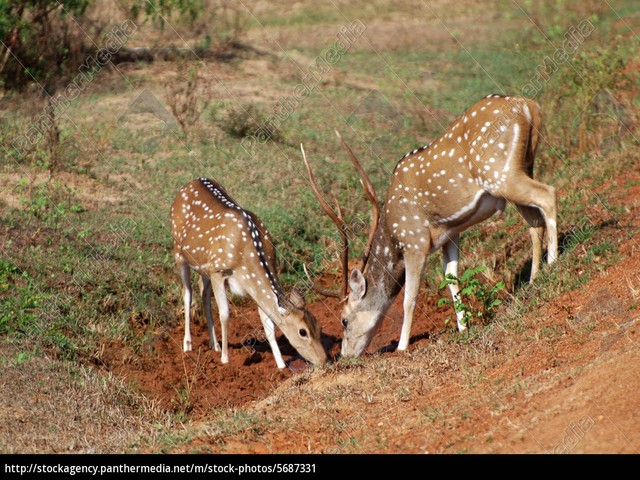deer: (343, 89, 567, 365), (160, 156, 329, 373)
